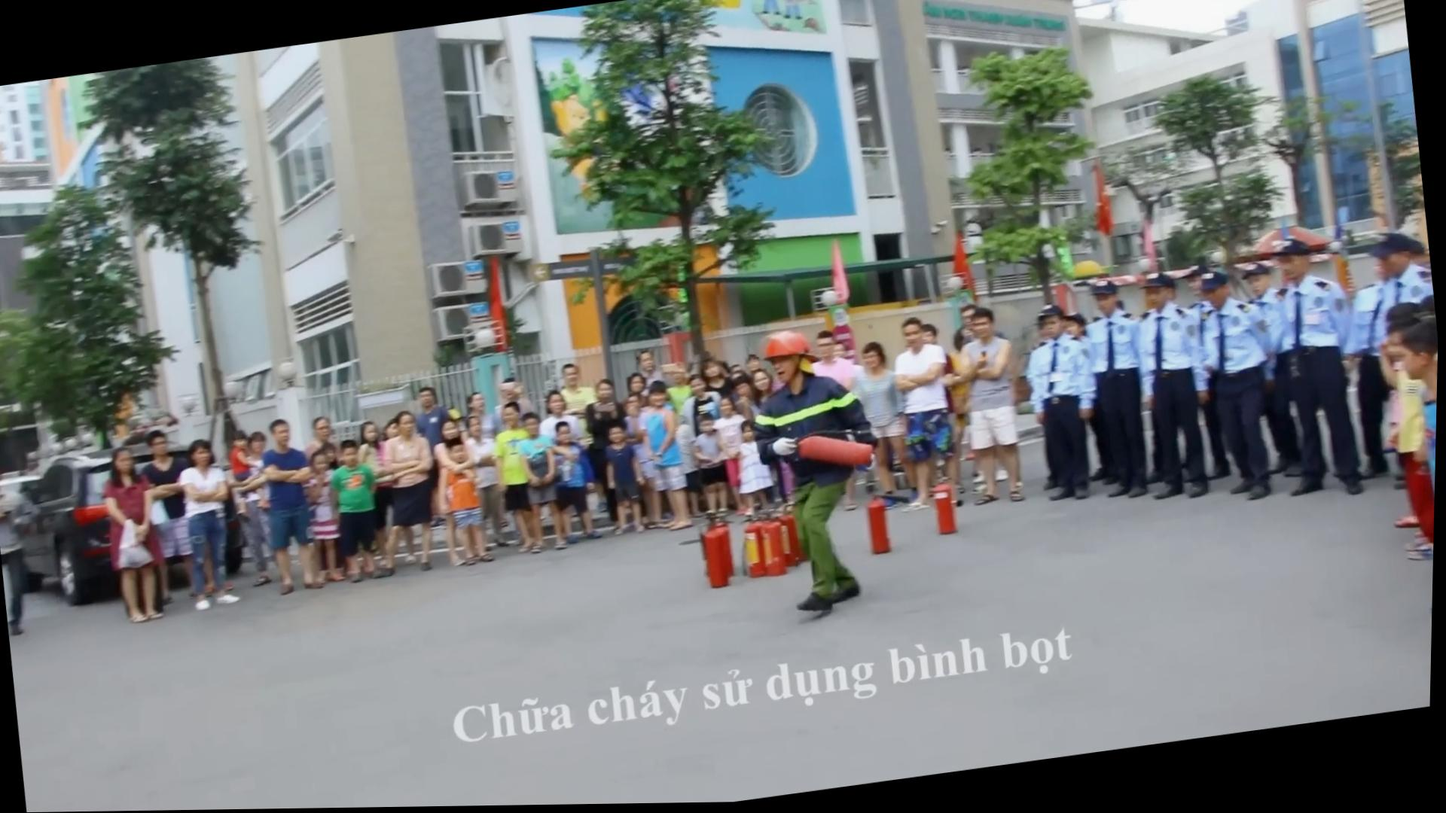FireExtinguisher: (792, 424, 885, 485), (698, 522, 746, 600), (740, 521, 794, 587), (929, 475, 969, 547), (862, 490, 901, 561), (777, 506, 809, 568)
not: (85, 439, 180, 593), (939, 212, 1003, 312), (1381, 445, 1438, 557), (424, 441, 491, 530), (748, 321, 832, 382), (477, 250, 521, 355), (1085, 152, 1122, 242), (713, 447, 756, 496), (1038, 279, 1085, 322), (1334, 242, 1367, 301), (224, 423, 253, 481)
